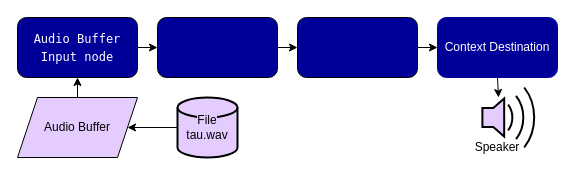
The diagram is 575 pixels wide and 176 high, and some of its shapes have lost their labels. Each missing label, with the centre of its shape:
Gain node: point 217,47
Stereo Panner node: point 357,47
